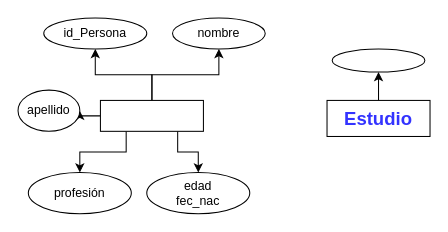
Some shapes in this 448 by 232 pixel diagram are drawn without their labels. The shapes that lost their labels are listed below. From the top down, each one's box as (x1, y1, x2, y2) in pixels, then its label:
(331, 48, 425, 72): titulo
(99, 99, 203, 131): Persona
